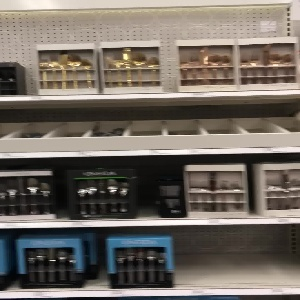void: (172, 220, 300, 289)
